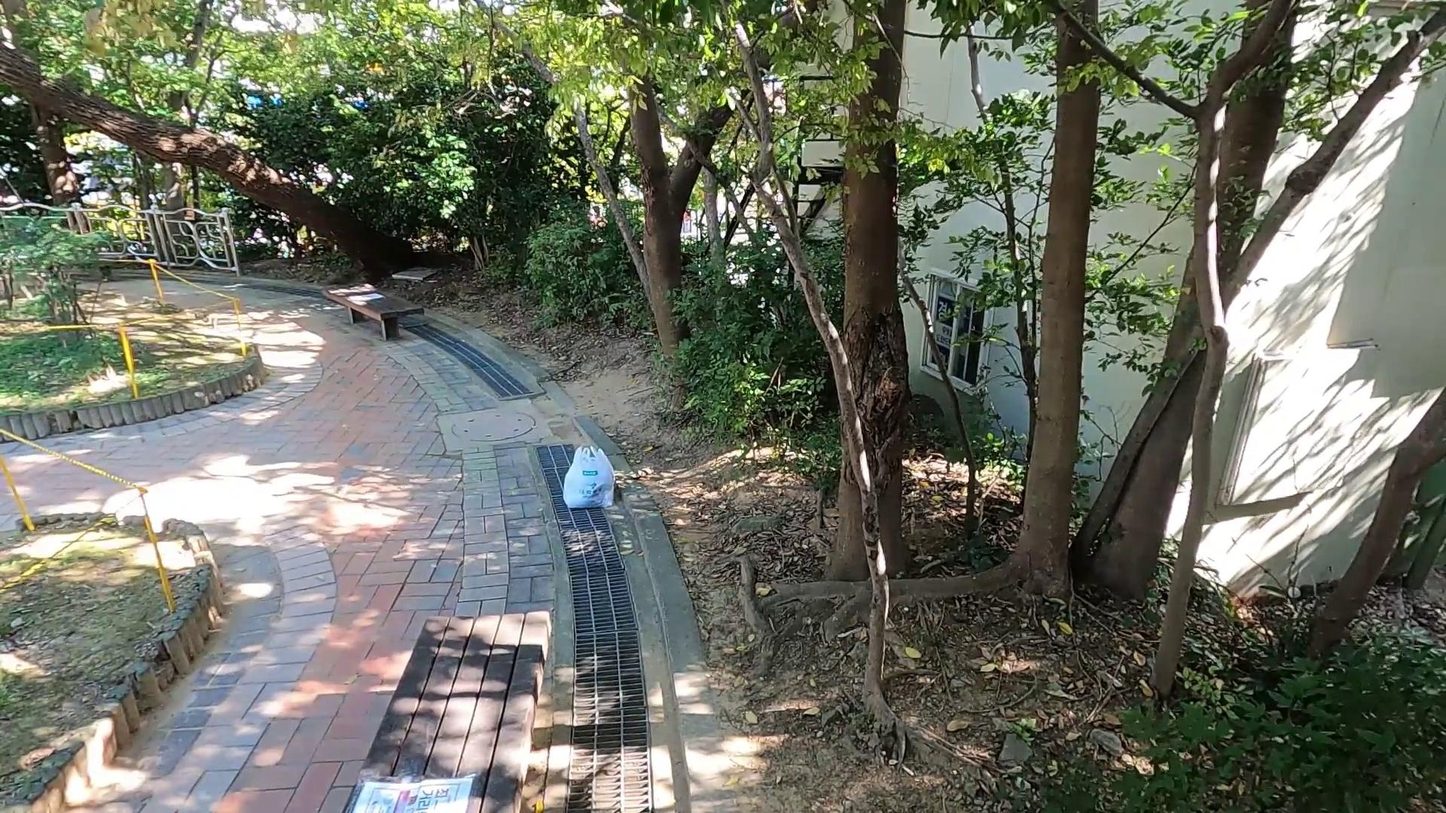trash: (558, 439, 618, 518)
